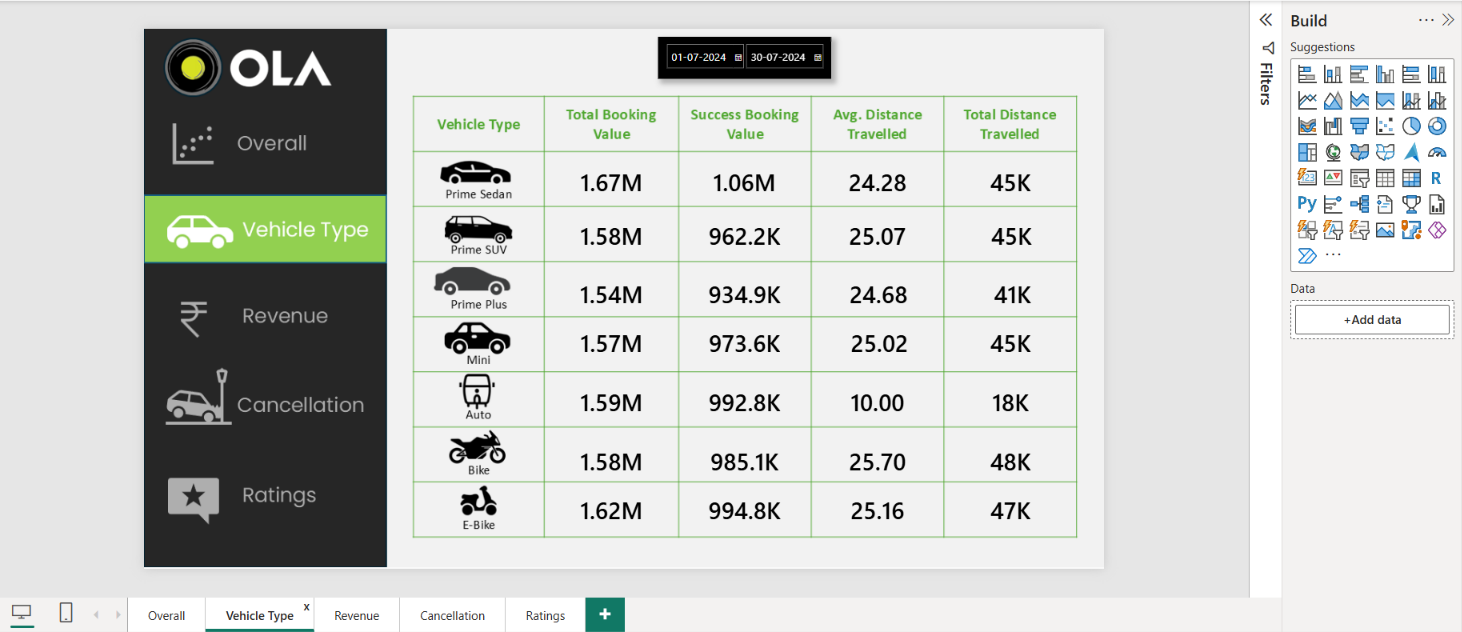

The page's visual inventory and layout, read from the dashboard file:
{"tool":"powerbi","page":{"name":"Vehicle Type","canvas":[1920,1080],"ordinal":1},"visuals":[{"type":"actionButton","box":[0,506.7,483.2,133.9],"z":0},{"type":"actionButton","box":[0,671.4,483.2,144.8],"z":1000},{"type":"actionButton","box":[0,170.1,483.2,133.9],"z":2000},{"type":"actionButton","box":[0,872.3,483.2,133.9],"z":3000},{"type":"cardVisual","fields":{"Data":["Sum(Bookings.Booking_Value)"]},"box":[802,258,266,92],"z":4000},{"type":"cardVisual","fields":{"Data":["Sum(Bookings.Booking_Value)"]},"box":[802,366,266,92],"z":5000},{"type":"cardVisual","fields":{"Data":["Sum(Bookings.Booking_Value)"]},"box":[802,482,266,92],"z":6000},{"type":"cardVisual","fields":{"Data":["Sum(Bookings.Booking_Value)"]},"box":[802,580,266,92],"z":7000},{"type":"cardVisual","fields":{"Data":["Sum(Bookings.Booking_Value)"]},"box":[802,698,266,92],"z":8000},{"type":"cardVisual","fields":{"Data":["Sum(Bookings.Booking_Value)"]},"box":[802,816,266,92],"z":9000},{"type":"cardVisual","fields":{"Data":["Sum(Bookings.Booking_Value)"]},"box":[802,914,266,92],"z":10000},{"type":"cardVisual","fields":{"Data":["Sum(Bookings.Booking_Value)"]},"box":[1068,258,266,92],"z":11000},{"type":"cardVisual","fields":{"Data":["Sum(Bookings.Booking_Value)"]},"box":[1068,366,266,92],"z":12000},{"type":"cardVisual","fields":{"Data":["Sum(Bookings.Booking_Value)"]},"box":[1068,482,266,92],"z":13000},{"type":"cardVisual","fields":{"Data":["Sum(Bookings.Booking_Value)"]},"box":[1068,580,266,92],"z":14000},{"type":"cardVisual","fields":{"Data":["Sum(Bookings.Booking_Value)"]},"box":[1068,698,266,92],"z":15000},{"type":"cardVisual","fields":{"Data":["Sum(Bookings.Booking_Value)"]},"box":[1068,816,266,92],"z":16000},{"type":"cardVisual","fields":{"Data":["Sum(Bookings.Booking_Value)"]},"box":[1068,914,266,92],"z":17000},{"type":"cardVisual","fields":{"Data":["Avg(Bookings.Ride_Distance)"]},"box":[1334,258,266,92],"z":18000},{"type":"cardVisual","fields":{"Data":["Avg(Bookings.Ride_Distance)"]},"box":[1334,366,266,92],"z":19000},{"type":"cardVisual","fields":{"Data":["Avg(Bookings.Ride_Distance)"]},"box":[1336,482,266,92],"z":20000},{"type":"cardVisual","fields":{"Data":["Avg(Bookings.Ride_Distance)"]},"box":[1338,580,266,92],"z":21000},{"type":"cardVisual","fields":{"Data":["Avg(Bookings.Ride_Distance)"]},"box":[1334,698,266,92],"z":22000},{"type":"cardVisual","fields":{"Data":["Avg(Bookings.Ride_Distance)"]},"box":[1334,816,266,92],"z":23000},{"type":"cardVisual","fields":{"Data":["Avg(Bookings.Ride_Distance)"]},"box":[1334,914,266,92],"z":24000},{"type":"cardVisual","fields":{"Data":["Sum(Bookings.Ride_Distance)"]},"box":[1600,258,266,92],"z":25000},{"type":"cardVisual","fields":{"Data":["Sum(Bookings.Ride_Distance)"]},"box":[1602,366,266,92],"z":26000},{"type":"cardVisual","fields":{"Data":["Sum(Bookings.Ride_Distance)"]},"box":[1604,482,266,92],"z":27000},{"type":"cardVisual","fields":{"Data":["Sum(Bookings.Ride_Distance)"]},"box":[1600,580,266,92],"z":28000},{"type":"cardVisual","fields":{"Data":["Sum(Bookings.Ride_Distance)"]},"box":[1600,698,266,92],"z":29000},{"type":"cardVisual","fields":{"Data":["Sum(Bookings.Ride_Distance)"]},"box":[1600,816,266,92],"z":30000},{"type":"cardVisual","fields":{"Data":["Sum(Bookings.Ride_Distance)"]},"box":[1600,914,266,92],"z":31000},{"type":"slicer","title":"Date","fields":{"Values":["Bookings.Date"]},"box":[1028,16,346,84],"z":32000}]}

Visuals, with their boxes on the page's 1920x1080 design canvas (x1, y1, x2, y2). These are canvas units, not pixel positions in the 1462x632 screenshot, which may show the page scaled, cropped or inside an application window:
actionButton: region(0, 507, 483, 641)
actionButton: region(0, 671, 483, 816)
actionButton: region(0, 170, 483, 304)
actionButton: region(0, 872, 483, 1006)
cardVisual - Sum(Bookings.Booking_Value): region(802, 258, 1068, 350)
cardVisual - Sum(Bookings.Booking_Value): region(802, 366, 1068, 458)
cardVisual - Sum(Bookings.Booking_Value): region(802, 482, 1068, 574)
cardVisual - Sum(Bookings.Booking_Value): region(802, 580, 1068, 672)
cardVisual - Sum(Bookings.Booking_Value): region(802, 698, 1068, 790)
cardVisual - Sum(Bookings.Booking_Value): region(802, 816, 1068, 908)
cardVisual - Sum(Bookings.Booking_Value): region(802, 914, 1068, 1006)
cardVisual - Sum(Bookings.Booking_Value): region(1068, 258, 1334, 350)
cardVisual - Sum(Bookings.Booking_Value): region(1068, 366, 1334, 458)
cardVisual - Sum(Bookings.Booking_Value): region(1068, 482, 1334, 574)
cardVisual - Sum(Bookings.Booking_Value): region(1068, 580, 1334, 672)
cardVisual - Sum(Bookings.Booking_Value): region(1068, 698, 1334, 790)
cardVisual - Sum(Bookings.Booking_Value): region(1068, 816, 1334, 908)
cardVisual - Sum(Bookings.Booking_Value): region(1068, 914, 1334, 1006)
cardVisual - Avg(Bookings.Ride_Distance): region(1334, 258, 1600, 350)
cardVisual - Avg(Bookings.Ride_Distance): region(1334, 366, 1600, 458)
cardVisual - Avg(Bookings.Ride_Distance): region(1336, 482, 1602, 574)
cardVisual - Avg(Bookings.Ride_Distance): region(1338, 580, 1604, 672)
cardVisual - Avg(Bookings.Ride_Distance): region(1334, 698, 1600, 790)
cardVisual - Avg(Bookings.Ride_Distance): region(1334, 816, 1600, 908)
cardVisual - Avg(Bookings.Ride_Distance): region(1334, 914, 1600, 1006)
cardVisual - Sum(Bookings.Ride_Distance): region(1600, 258, 1866, 350)
cardVisual - Sum(Bookings.Ride_Distance): region(1602, 366, 1868, 458)
cardVisual - Sum(Bookings.Ride_Distance): region(1604, 482, 1870, 574)
cardVisual - Sum(Bookings.Ride_Distance): region(1600, 580, 1866, 672)
cardVisual - Sum(Bookings.Ride_Distance): region(1600, 698, 1866, 790)
cardVisual - Sum(Bookings.Ride_Distance): region(1600, 816, 1866, 908)
cardVisual - Sum(Bookings.Ride_Distance): region(1600, 914, 1866, 1006)
"Date" slicer: region(1028, 16, 1374, 100)
